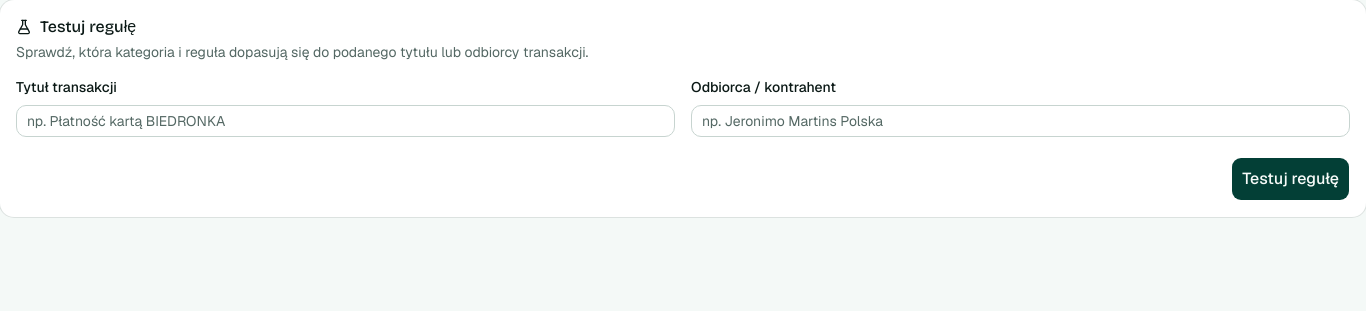
Test: RuleTester › displays no-match alert when testRuleAction resolves with matched: false
Type "Nieznany przelew" into the field labelled "Tytuł transakcji".
click(346, 121); type("Nieznany przelew")  # box [16, 105, 675, 137]
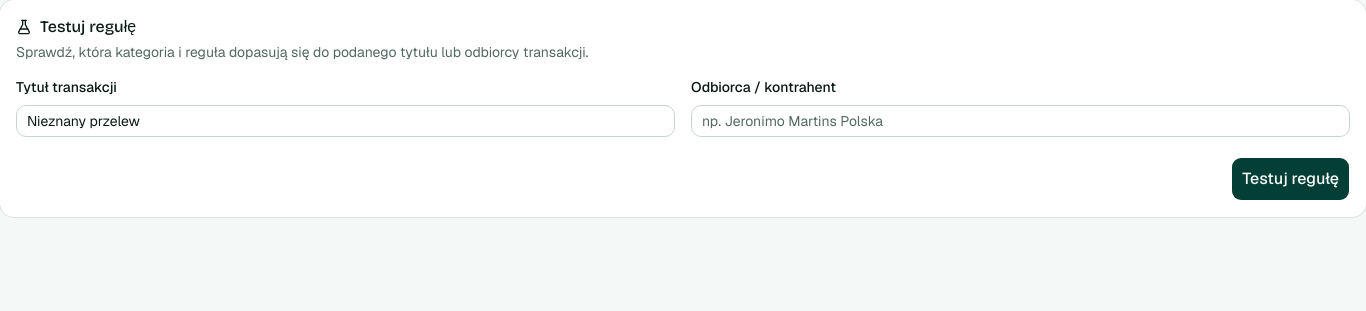
Click the button "Testuj regułę".
click(1291, 179)  # box [1231, 157, 1350, 201]
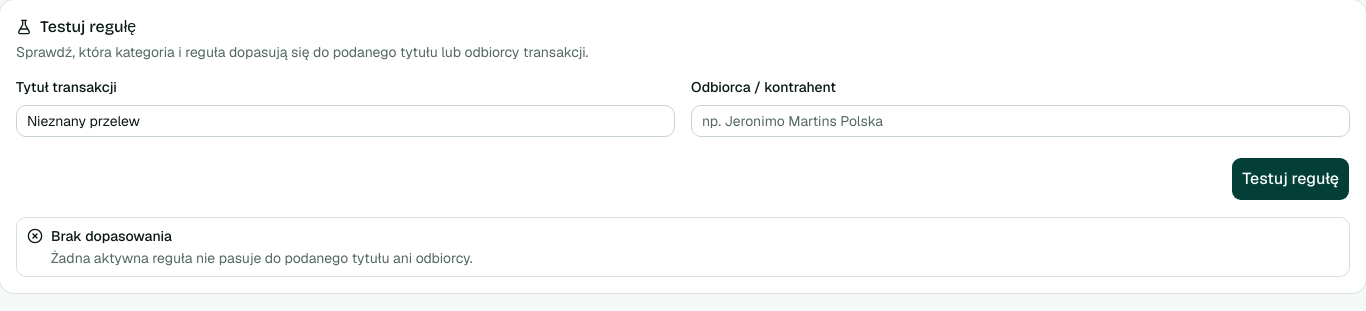
Expected: the text "Brak dopasowania" is shown, [51, 227, 172, 245]
Expected: the text "Żadna aktywna reguła nie pasuje do podanego tytułu ani odbiorcy." is shown, [51, 249, 472, 267]
